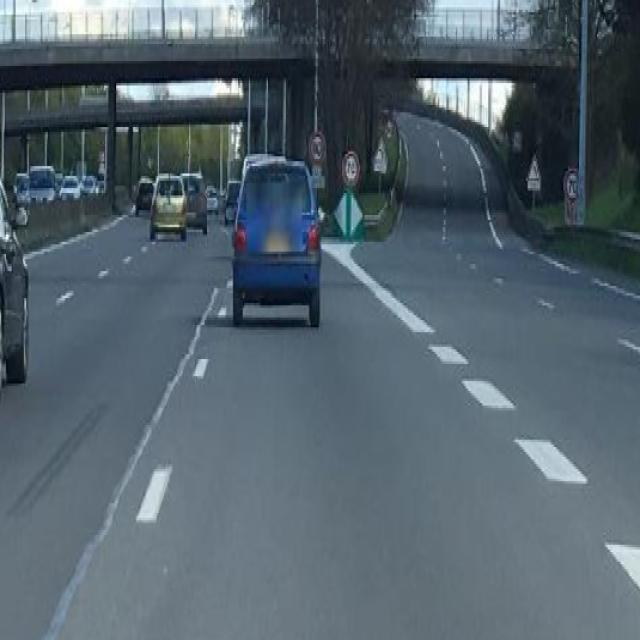speed_70: (566, 171, 580, 202), (344, 154, 358, 183)
